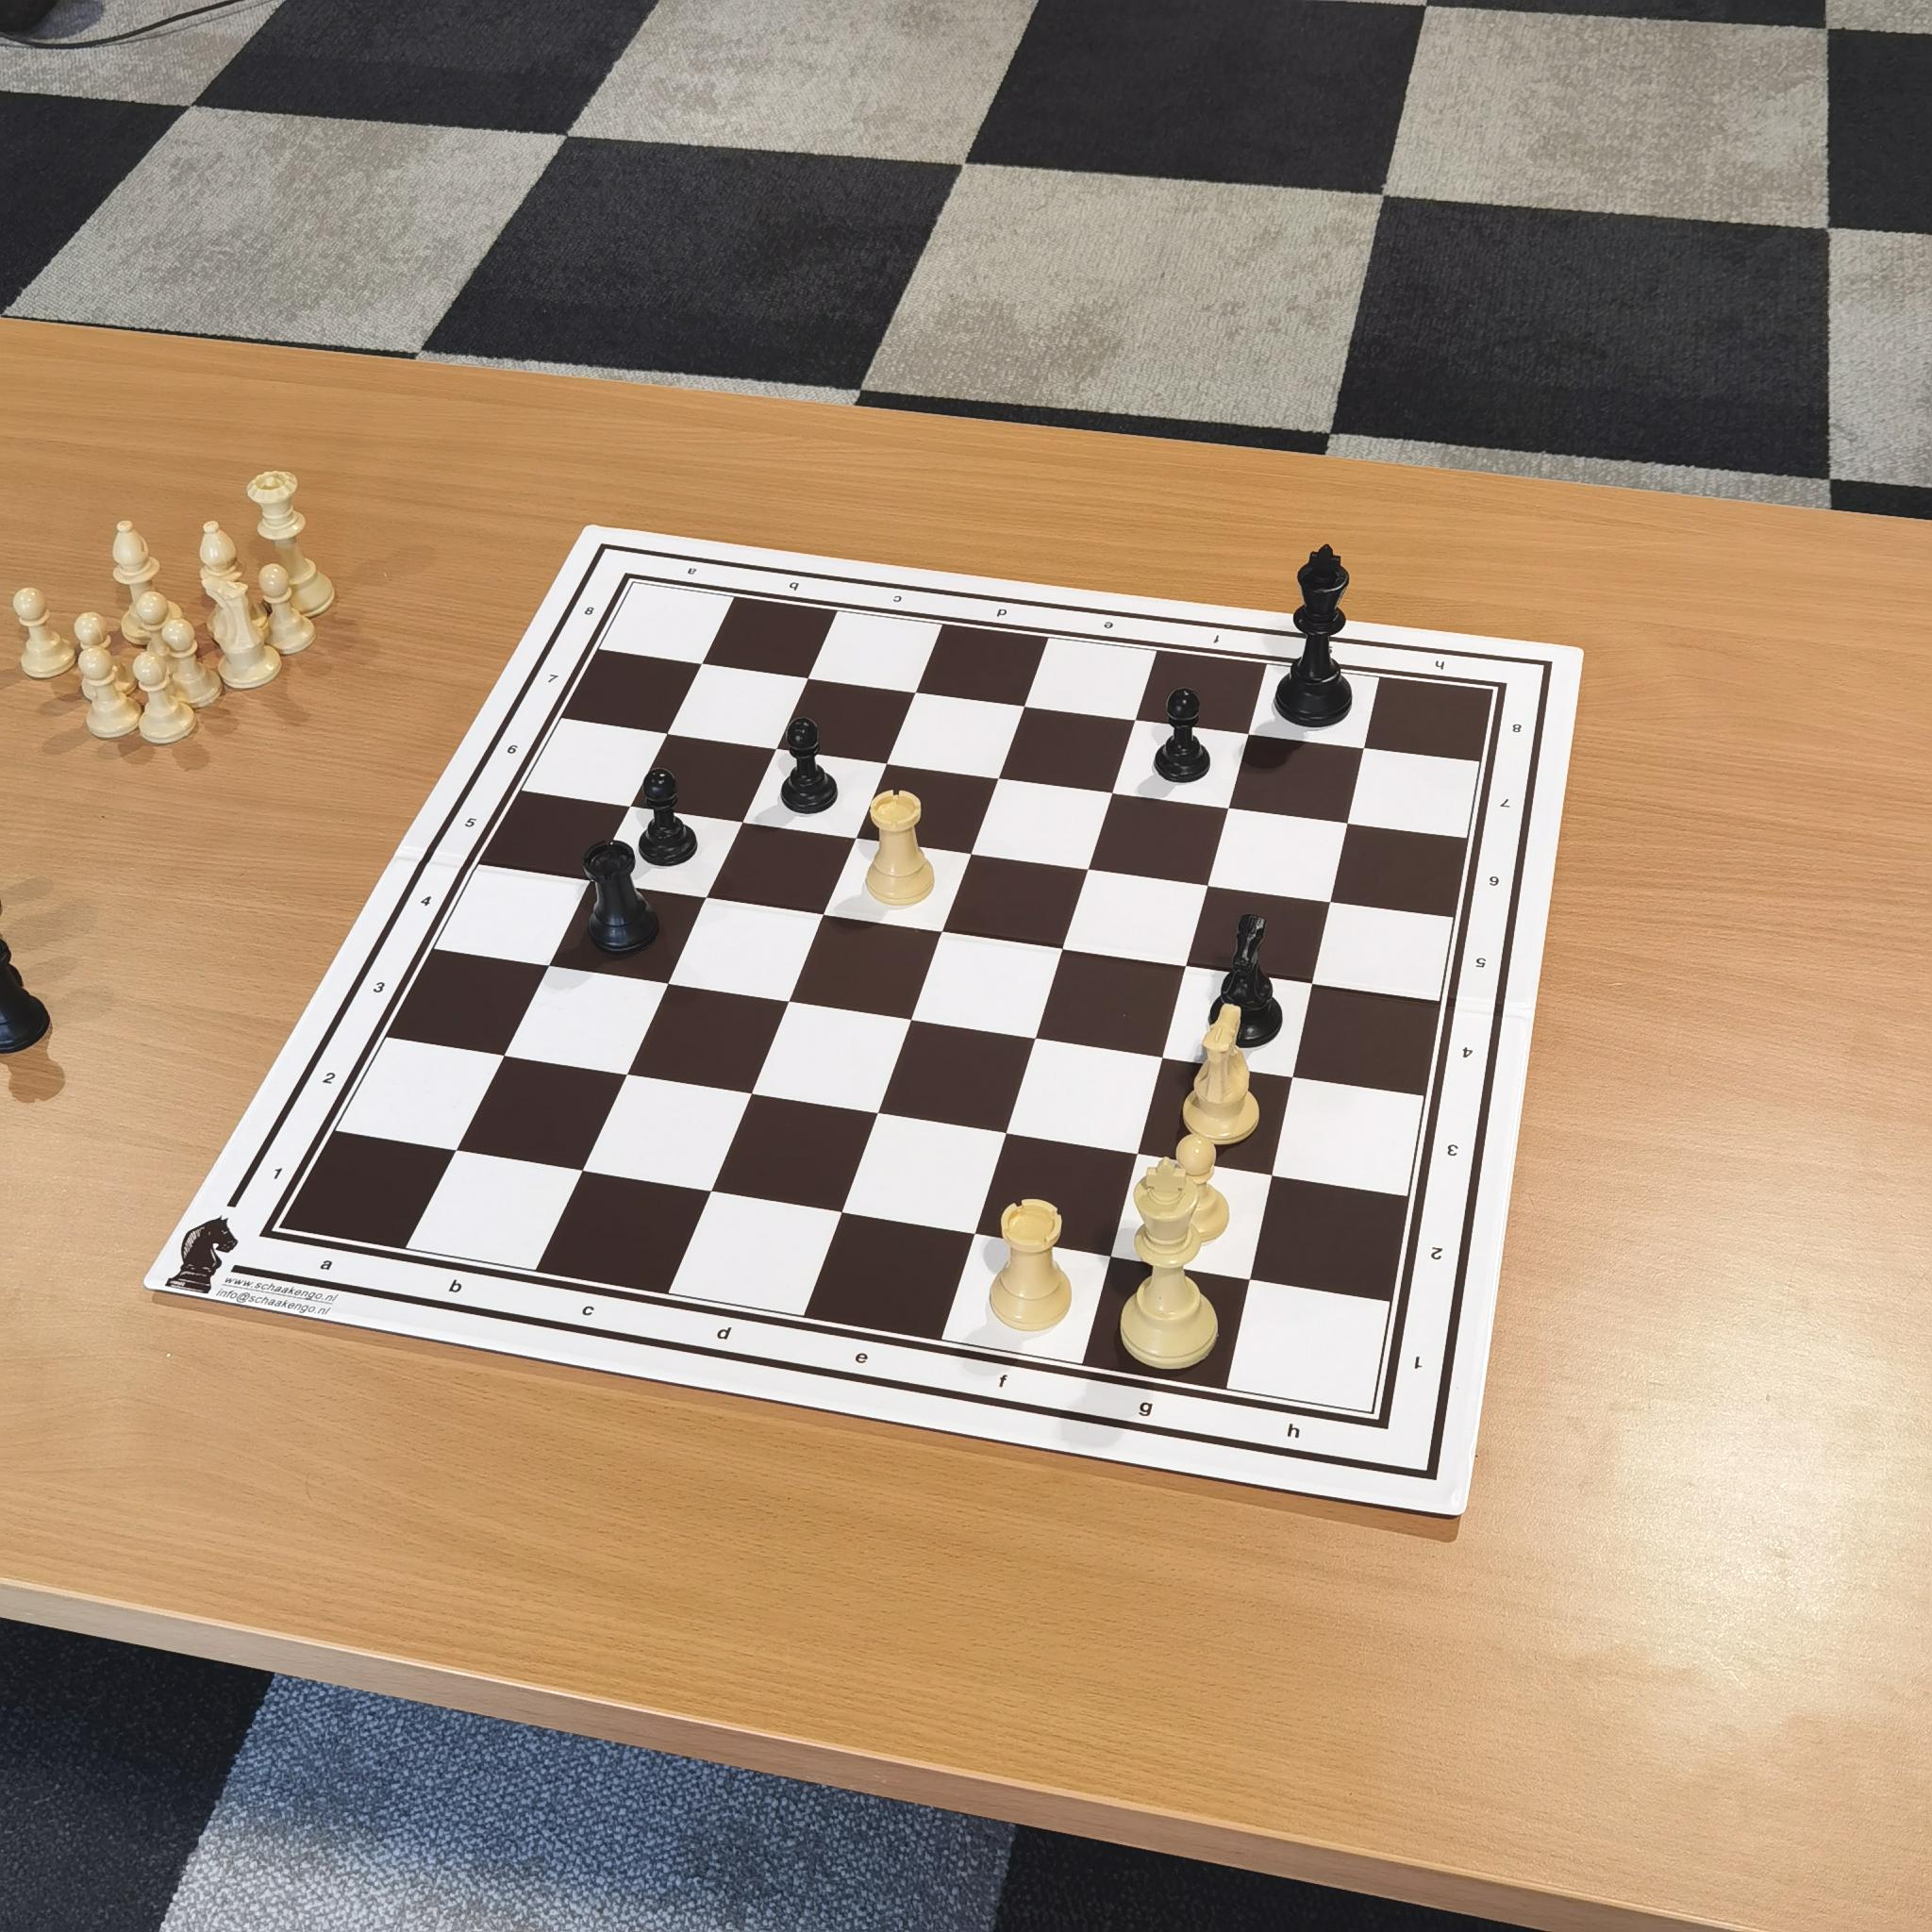corners: (246, 1221, 297, 1268), (1358, 1398, 1406, 1444), (1473, 670, 1520, 706), (611, 562, 653, 599)
eight: (1505, 706, 1540, 752), (574, 593, 604, 626)
one: (257, 1146, 300, 1192), (1403, 1346, 1437, 1381)
